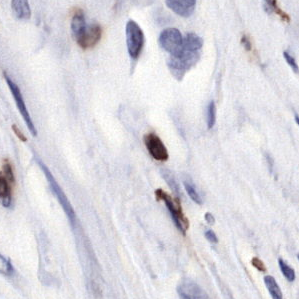Lymphocyte: (145, 131, 171, 162)
